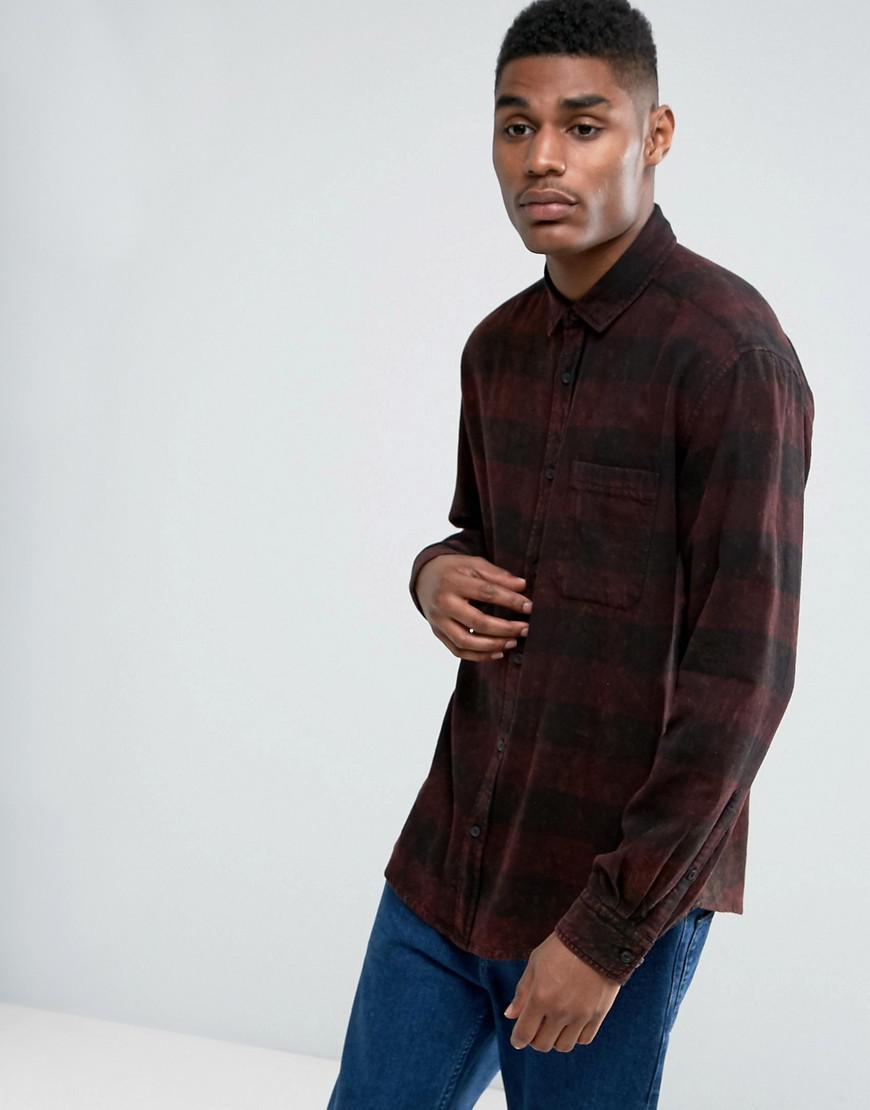teeshirt: (388, 191, 825, 995)
